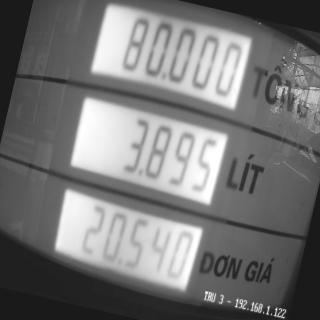screen: (35, 0, 259, 312)
